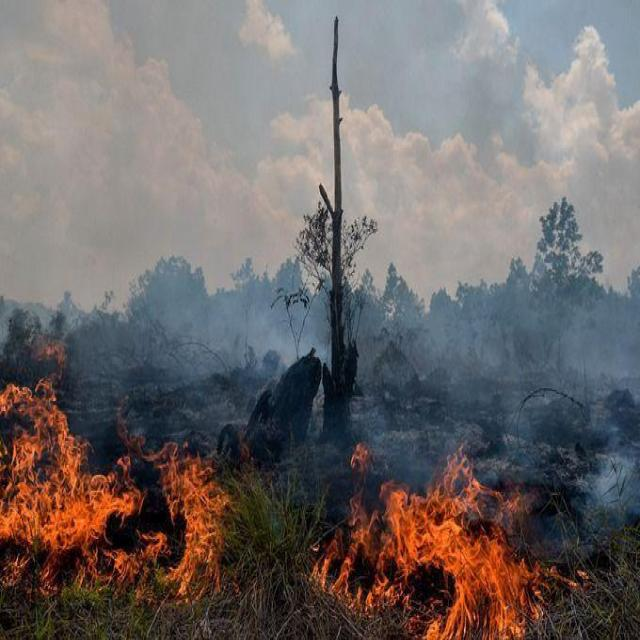fire: (6, 328, 233, 606), (300, 433, 599, 626)
